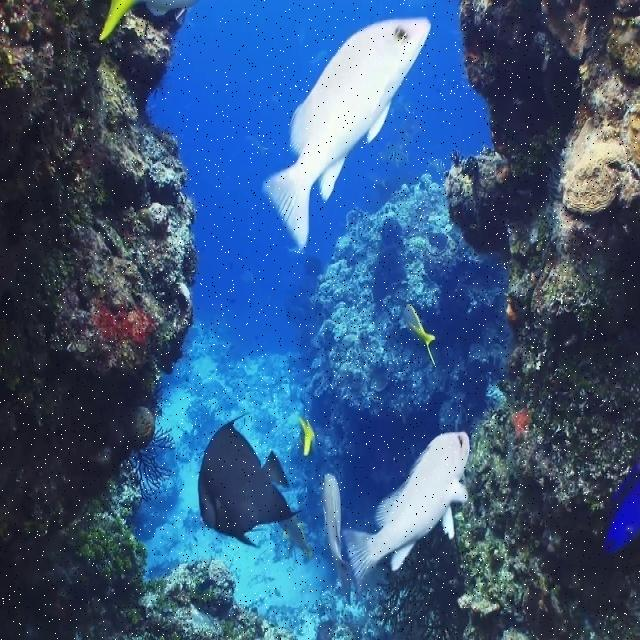fish: (263, 17, 431, 250), (344, 432, 470, 585), (198, 412, 304, 546), (321, 473, 353, 605), (99, 0, 199, 40), (604, 460, 639, 554), (400, 304, 438, 366), (279, 515, 312, 557), (297, 415, 315, 455)
sea-floor: (444, 0, 639, 639)
